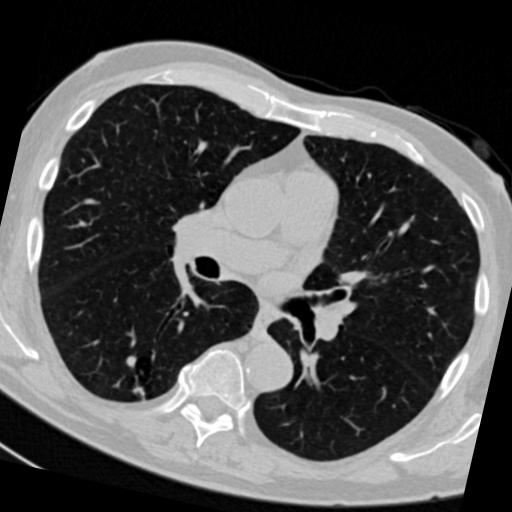nodule: (122, 352, 142, 372)
